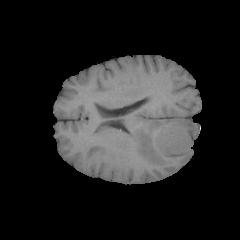glioma: (128, 119, 195, 166)
